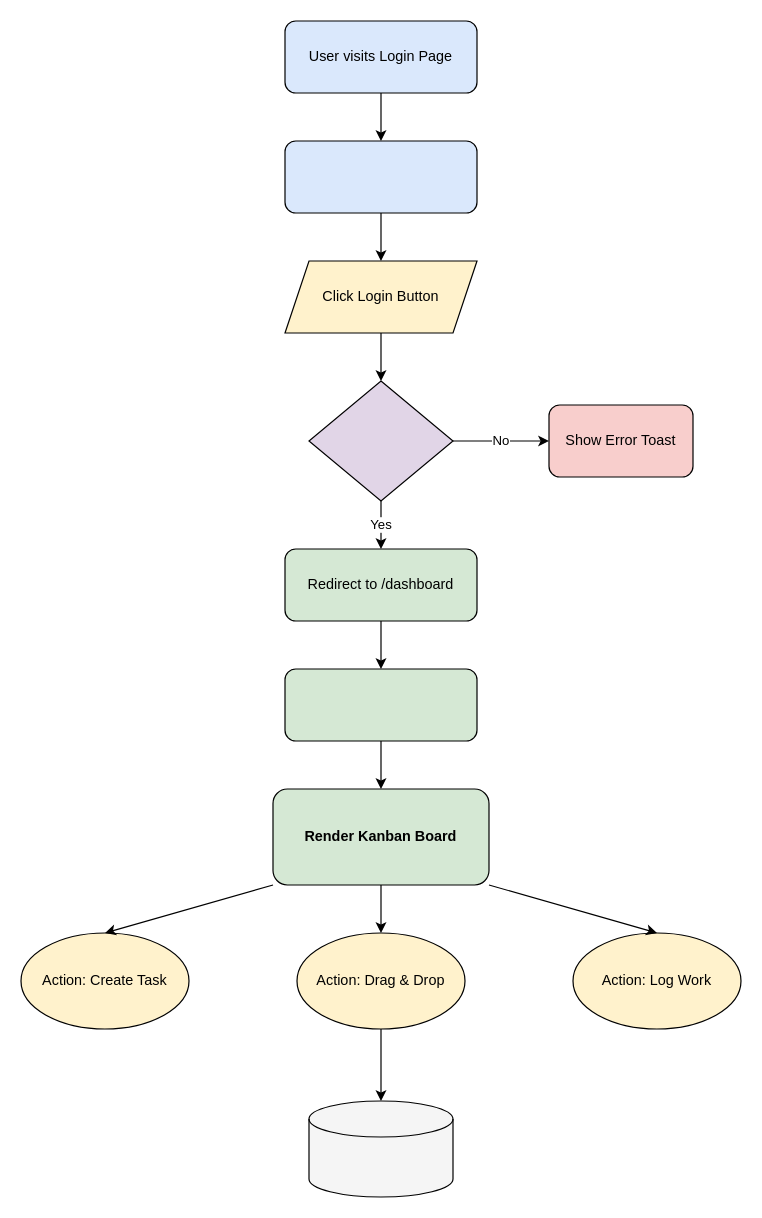
This 762x1218 diagram has some shape labels left out. The centre of each missing label's shape, as x and y in pixels:
Auth Check (Valid JWT?): the point at 380,440
DB Update & UI Sync: the point at 380,1148
Enter Credentials (Email/Password): the point at 380,176
Fetch Columns & Tasks (GET /api/board/...): the point at 380,704
